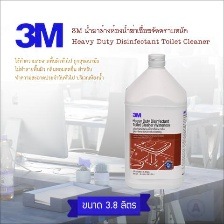bottle: (0, 132, 15, 203)
cleaning_solution: (121, 51, 188, 191)
